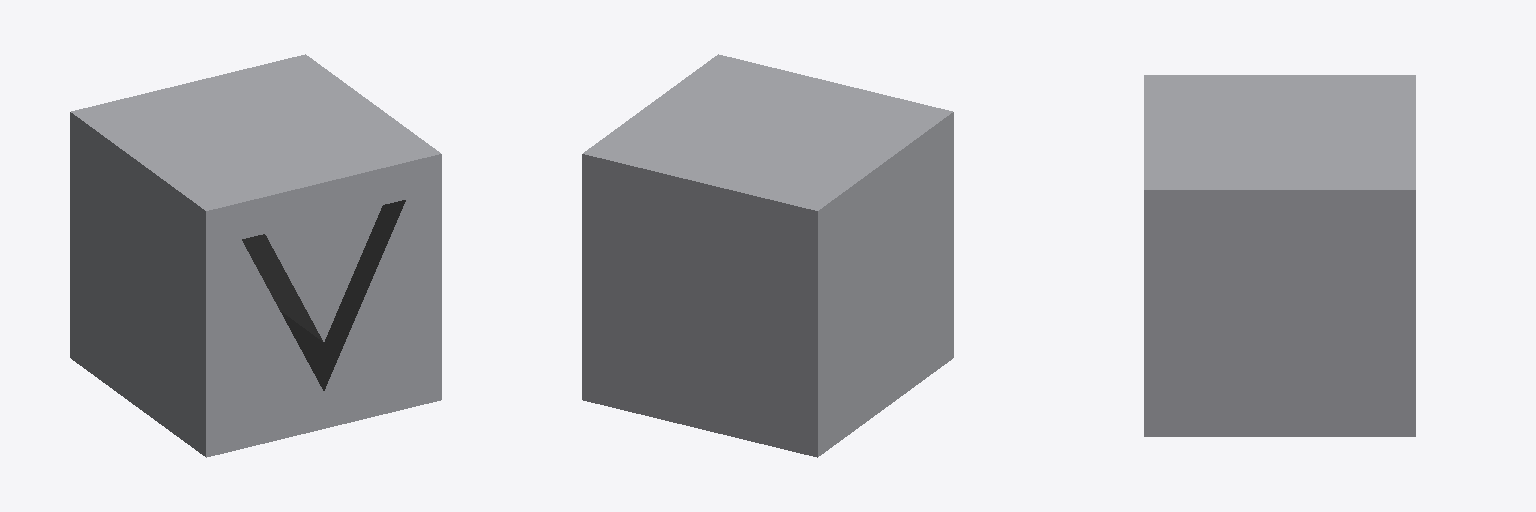
File: CubeV.obj
The picture shows the model from 3 angles: view 1: azimuth 30°, elevation 25°; view 2: azimuth 150°, elevation 25°; view 3: azimuth 270°, elevation 25°; orthographic projection.
Visible parts, largest first — view 1: Mesh1 Model; view 2: Mesh1 Model; view 3: Mesh1 Model.
Boxes of the visible parts, <box> form: Mesh1 Model: <box>70,54,441,457</box>; Mesh1 Model: <box>582,54,953,457</box>; Mesh1 Model: <box>1144,75,1415,436</box>.
Size of the model in its own units: 2 by 2 by 2.